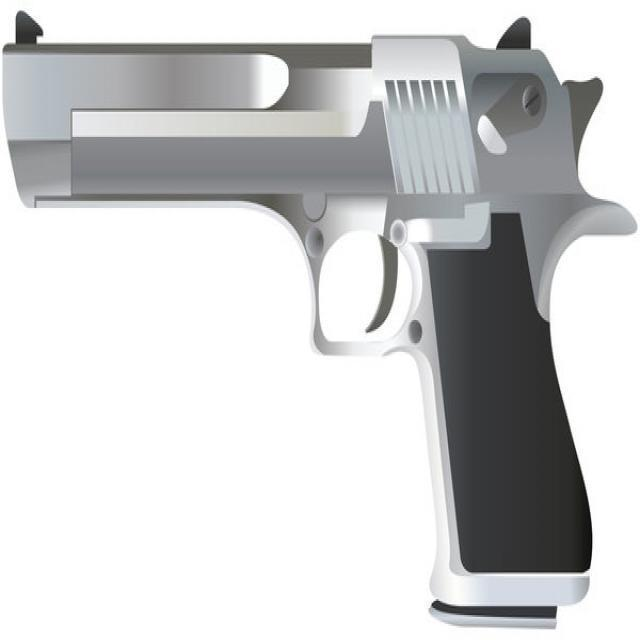Pistol: (0, 7, 623, 640)
